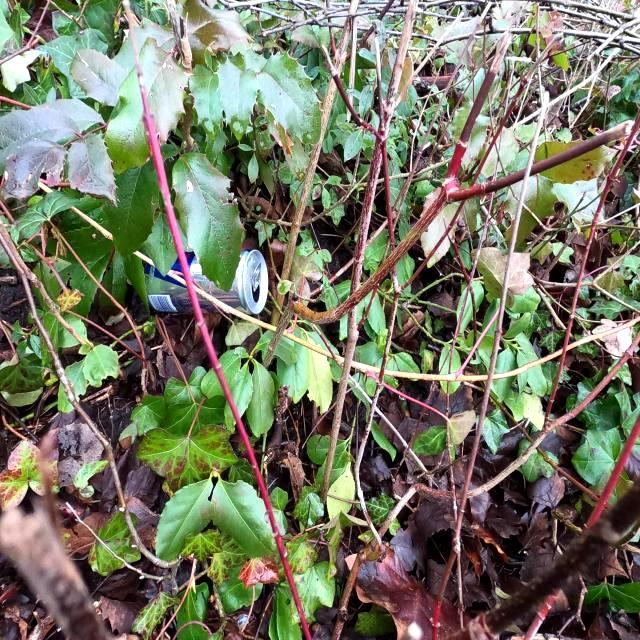Metal: (138, 247, 270, 317)
